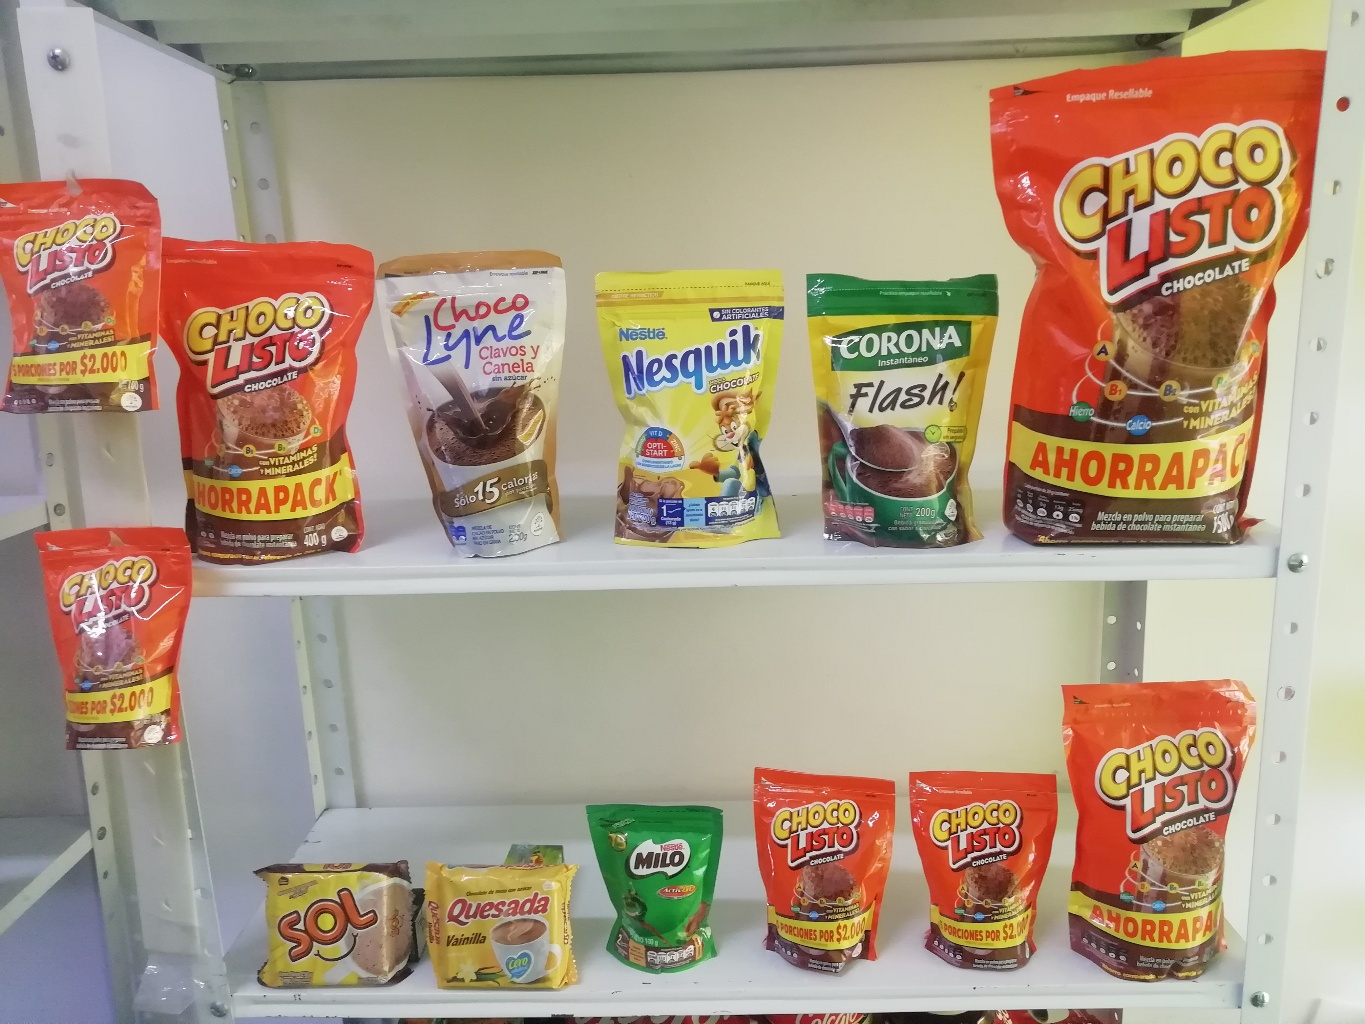COL0170103DYP1,500: (981, 44, 1321, 547)
COL0170103DYP10000: (2, 181, 170, 415)
COL0170103DYP36000: (1057, 672, 1255, 989)
COL0170103DYP40000: (150, 233, 392, 566)
COL0170203DYP10000: (577, 795, 733, 976)
COL0170303DYP20000: (588, 265, 797, 547)
